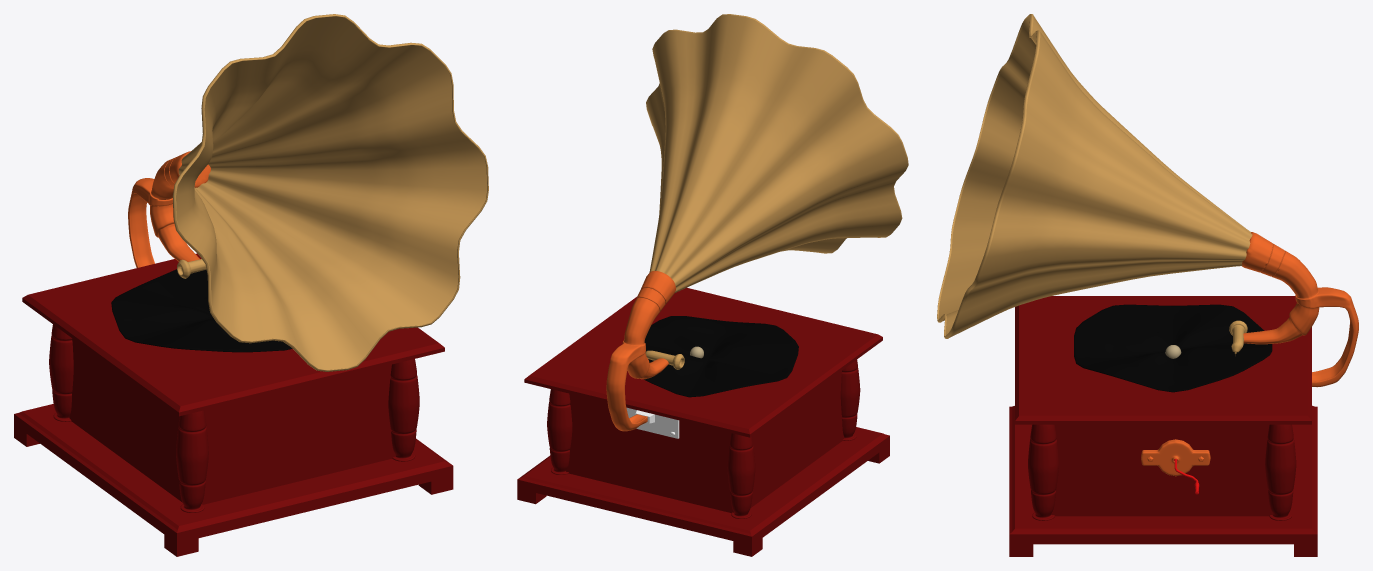
The model's file is phonograph.glb.
The picture shows the model from 3 angles, left to right: view 1: azimuth 30°, elevation 25°; view 2: azimuth 150°, elevation 25°; view 3: azimuth 270°, elevation 25°; orthographic projection. The views are drawn at different scales.
Visible parts, largest first — view 1: object 11, Box006, Cylinder007, Line002, Cylinder004, Cylinder003, Cylinder001; view 2: object 11, Box006, Cylinder007, Line002, Cylinder001, Cylinder002, Cylinder004, Sphere005_03 - Default_0; view 3: Box006, object 11, Cylinder007, Line002, Cylinder002, Cylinder003, Sphere001.
Boxes of the visible parts, x1,y1,x2,y2 form: object 11: (172, 14, 488, 371); Box006: (14, 253, 453, 556); Cylinder007: (111, 269, 292, 352); Line002: (128, 151, 210, 267); Cylinder004: (176, 410, 208, 512); Cylinder003: (388, 359, 419, 461); Cylinder001: (49, 324, 73, 421); object 11: (646, 14, 908, 292); Box006: (517, 287, 889, 556); Cylinder007: (644, 316, 798, 397); Line002: (606, 271, 675, 431); Cylinder001: (727, 433, 755, 518); Cylinder002: (547, 389, 572, 474); Cylinder004: (840, 360, 860, 440); Sphere005_03 - Default_0: (626, 407, 679, 438); Box006: (1009, 296, 1317, 556); object 11: (937, 14, 1252, 338); Cylinder007: (1074, 304, 1272, 392); Line002: (1242, 232, 1358, 387); Cylinder002: (1265, 424, 1296, 520); Cylinder003: (1028, 424, 1058, 520); Sphere001: (1141, 439, 1210, 476).
Bounding box in the file's own units: 0.2531 × 0.3779 × 0.3101.
